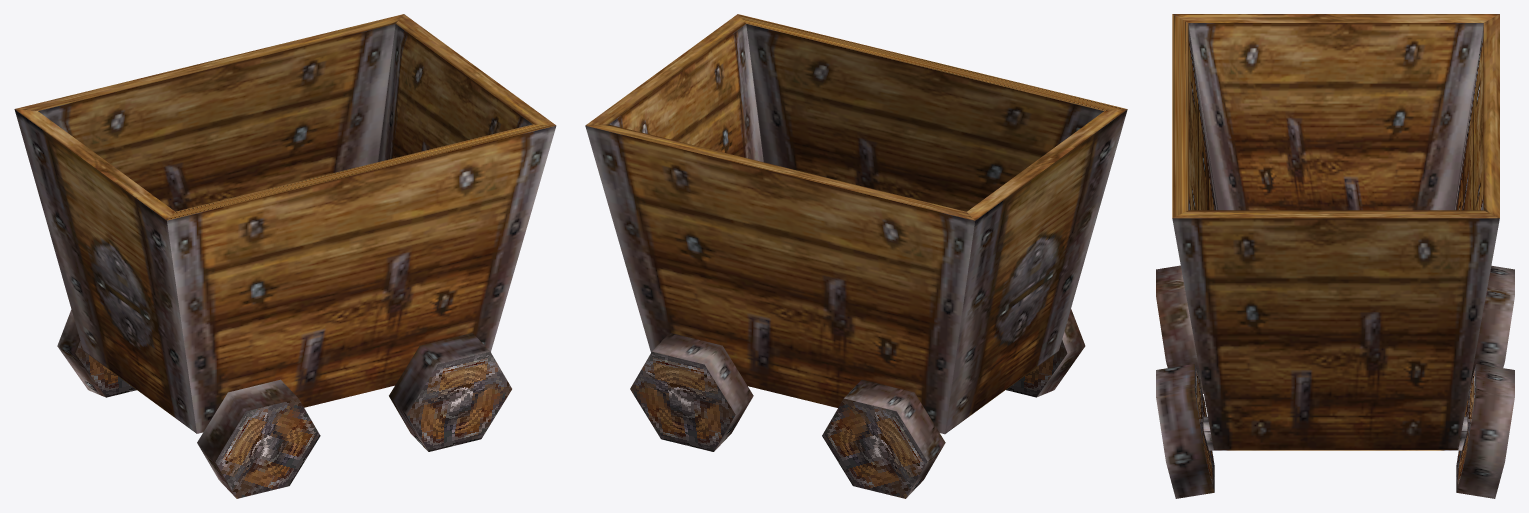
The model's file is caveminecar01.obj.
3 renders of one model, left to right at view 1: azimuth 30°, elevation 25°; view 2: azimuth 150°, elevation 25°; view 3: azimuth 270°, elevation 25°, orthographic. The views are drawn at different scales.
Visible parts, largest first — view 1: CAVEMINECAR010, CAVEMINECAR012, CAVEMINECAR011; view 2: CAVEMINECAR010, CAVEMINECAR012, CAVEMINECAR011; view 3: CAVEMINECAR010, CAVEMINECAR012, CAVEMINECAR011.
Part boxes in pixels (x1,y1,x2,y2): CAVEMINECAR010: (15,14,556,433); CAVEMINECAR012: (14,109,490,498); CAVEMINECAR011: (75,341,511,498); CAVEMINECAR010: (585,14,1127,434); CAVEMINECAR012: (652,109,1127,498); CAVEMINECAR011: (630,340,1067,498); CAVEMINECAR010: (1172,14,1499,450); CAVEMINECAR012: (1156,265,1514,498); CAVEMINECAR011: (1194,364,1476,492).
Bounding box in the file's own units: 2.05 × 1.49 × 1.52.
3 materials, 3 textured.
